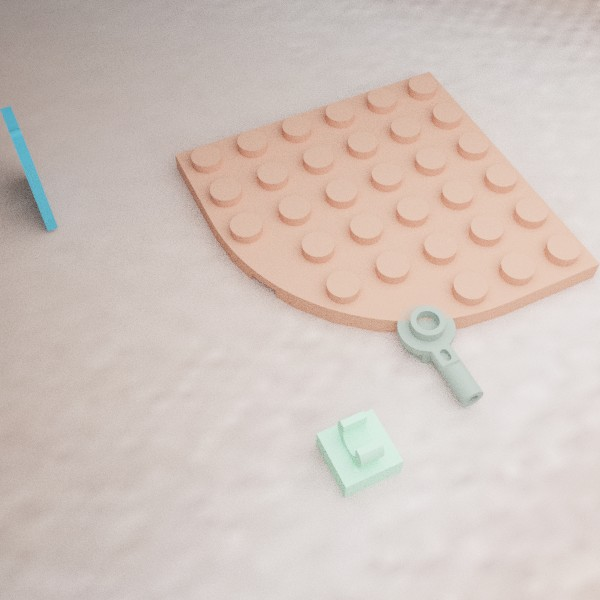lego: (174, 71, 599, 332), (396, 303, 483, 406), (316, 409, 403, 497), (0, 105, 58, 231)
